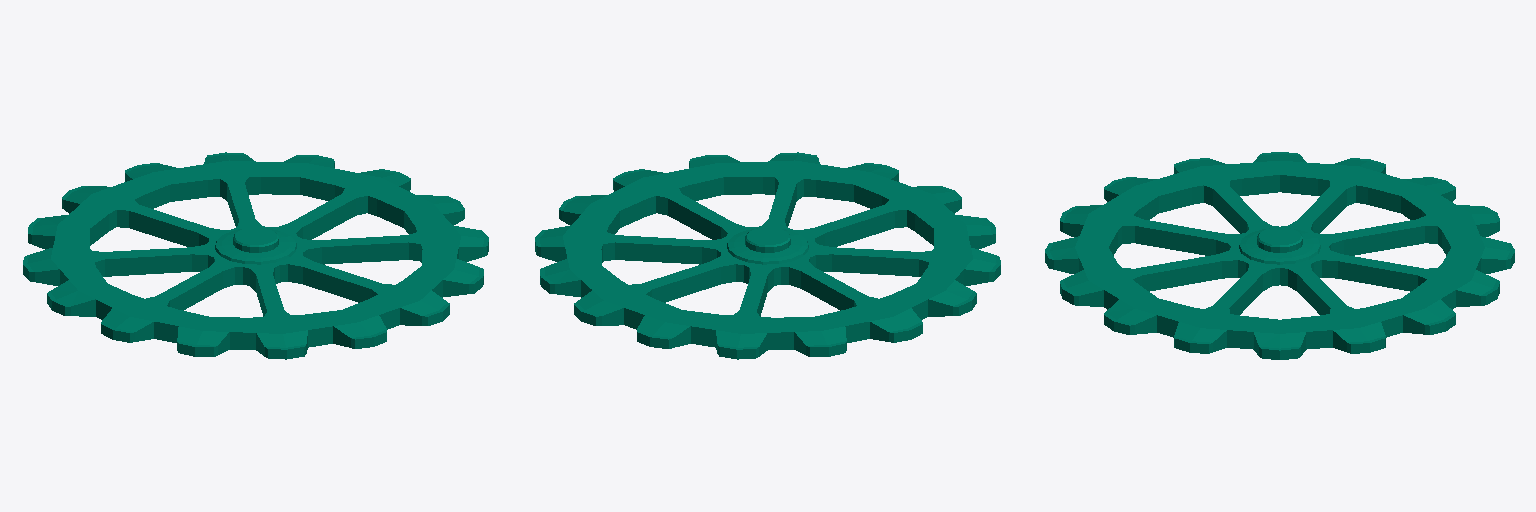
The model's file is spring1.obj.
The picture shows the model from 3 angles: view 1: azimuth 30°, elevation 25°; view 2: azimuth 150°, elevation 25°; view 3: azimuth 270°, elevation 25°; orthographic projection.
Visible parts, largest first — view 1: spring1; view 2: spring1; view 3: spring1.
Boxes of the visible parts, box(x1,y1,x2,y2) form: spring1: box(23, 152, 488, 359); spring1: box(535, 152, 1000, 359); spring1: box(1045, 152, 1514, 359).
Bounding box in the file's own units: 127 × 11.76 × 127.